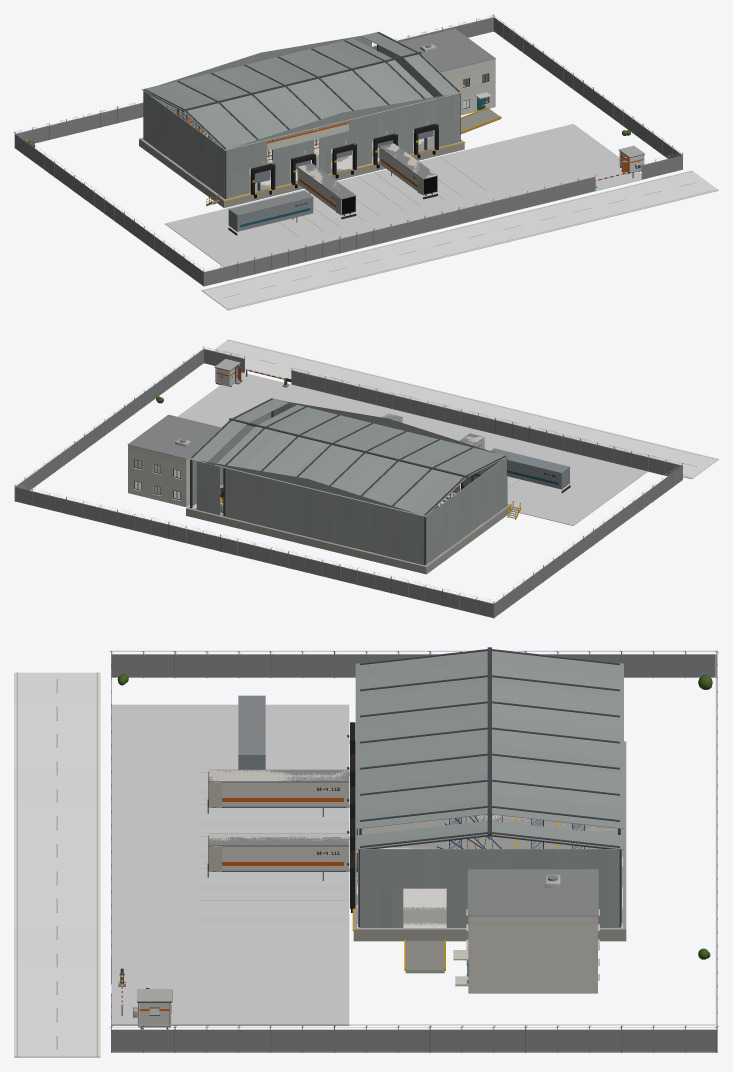
File: supply-depot.glb
3 renders of one model, top to bottom at view 1: azimuth 30°, elevation 25°; view 2: azimuth 150°, elevation 25°; view 3: azimuth 270°, elevation 25°, orthographic. The views are drawn at different scales.
Parts seen in each view (by area): view 1: C0_-1_lod0, C-1_-1_lod0, C-1_0_lod0, C0_0_lod0, C-2_0_lod0, C1_0_lod0; view 2: C-1_0_lod0, C0_0_lod0, C0_-1_lod0, C-1_-1_lod0, C-2_0_lod0, C1_0_lod0; view 3: C0_-1_lod0, C0_0_lod0, C-1_0_lod0, C-1_-1_lod0, C1_0_lod0, C-2_0_lod0.
Part boxes in pixels (x1=…): C0_-1_lod0: x1=165, y1=93, x2=718, y2=278; C-1_-1_lod0: x1=201, y1=117, x2=594, y2=310; C-1_0_lod0: x1=27, y1=34, x2=464, y2=207; C0_0_lod0: x1=15, y1=15, x2=501, y2=143; C-2_0_lod0: x1=14, y1=131, x2=203, y2=285; C1_0_lod0: x1=493, y1=14, x2=682, y2=158; C-1_0_lod0: x1=186, y1=400, x2=511, y2=614; C0_0_lod0: x1=15, y1=398, x2=493, y2=617; C0_-1_lod0: x1=157, y1=339, x2=647, y2=525; C-1_-1_lod0: x1=291, y1=368, x2=718, y2=519; C-2_0_lod0: x1=493, y1=463, x2=682, y2=618; C1_0_lod0: x1=14, y1=348, x2=203, y2=501; C0_-1_lod0: x1=14, y1=704, x2=381, y2=1057; C0_0_lod0: x1=355, y1=650, x2=717, y2=1025; C-1_0_lod0: x1=353, y1=647, x2=717, y2=941; C-1_-1_lod0: x1=14, y1=654, x2=356, y2=956; C1_0_lod0: x1=111, y1=1024, x2=718, y2=1052; C-2_0_lod0: x1=111, y1=650, x2=718, y2=678.
Size of what is drawn, in the model's own units: 84.02 by 11.12 by 65.17.
